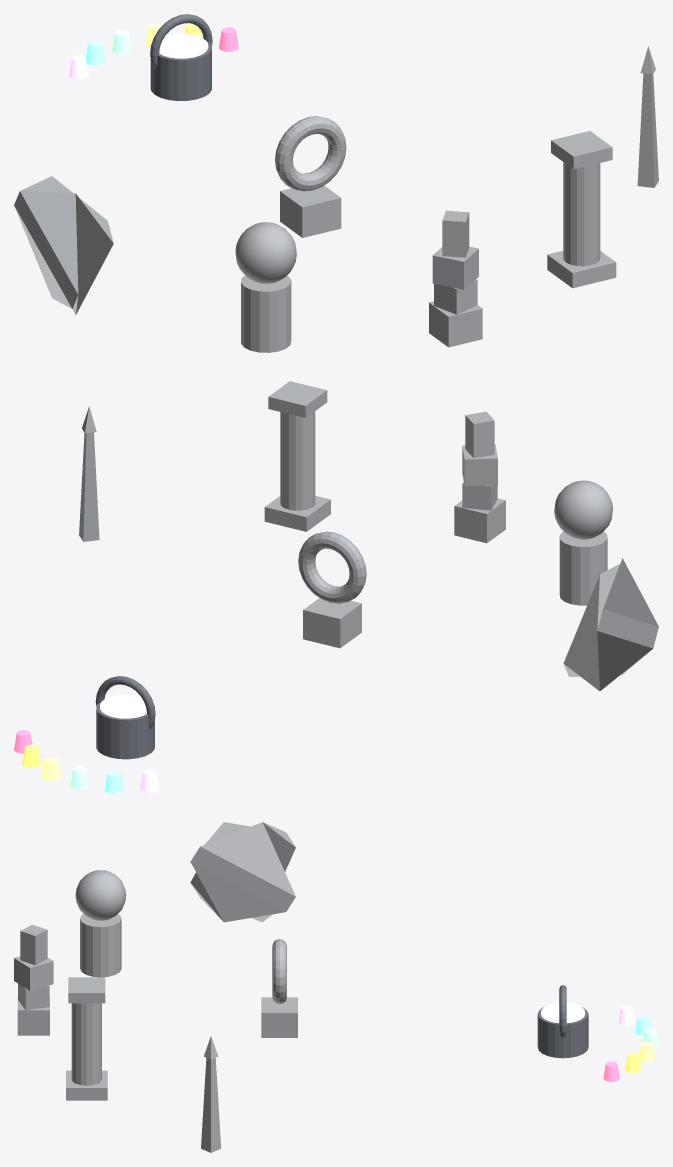
The model's file is colourGarden.glb.
3 views of the same model, one above another, from view 1: azimuth 30°, elevation 25°; view 2: azimuth 150°, elevation 25°; view 3: azimuth 270°, elevation 25° (orthographic). The views are drawn at different scales.
Visible parts, largest first — view 1: gardenStatue_twistprism, gardenStatue_column, gardenStatue_orbpedestal, gardenStatue_ringbase, gardenStatue_totem, gardenCauldron, gardenStatue_obelisk, gardenCauldronPaint; view 2: gardenStatue_twistprism, gardenStatue_column, gardenStatue_orbpedestal, gardenStatue_ringbase, gardenStatue_totem, gardenCauldron, gardenStatue_obelisk, gardenCauldronPaint; view 3: gardenStatue_twistprism, gardenStatue_orbpedestal, gardenStatue_column, gardenStatue_totem, gardenStatue_ringbase, gardenCauldron, gardenStatue_obelisk, gardenCauldronPaint.
Boxes of the visible parts, x1,y1,x2,y2 form: gardenStatue_twistprism: (14,176,113,315); gardenStatue_column: (547,131,616,288); gardenStatue_orbpedestal: (235,222,296,352); gardenStatue_ringbase: (275,116,346,237); gardenStatue_totem: (429,210,482,347); gardenCauldron: (150,14,212,100); gardenStatue_obelisk: (637,46,658,187); gardenCauldronPaint: (159,33,208,58); gardenStatue_twistprism: (563,558,658,691); gardenStatue_column: (264,381,330,531); gardenStatue_orbpedestal: (554,480,612,605); gardenStatue_ringbase: (298,531,366,648); gardenStatue_totem: (454,411,505,543); gardenCauldron: (95,676,155,759); gardenStatue_obelisk: (79,406,99,541); gardenCauldronPaint: (100,694,146,718); gardenStatue_twistprism: (190,822,295,922); gardenStatue_orbpedestal: (75,870,126,977); gardenStatue_column: (66,977,107,1100); gardenStatue_totem: (14,924,53,1035); gardenStatue_ringbase: (261,939,297,1037); gardenCauldron: (537,985,588,1058); gardenStatue_obelisk: (201,1036,221,1152); gardenCauldronPaint: (541,1003,585,1022).
Bounding box in the file's own units: 12.18 × 2.71 × 13.97.
